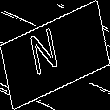N_S: (38, 25, 72, 85)
